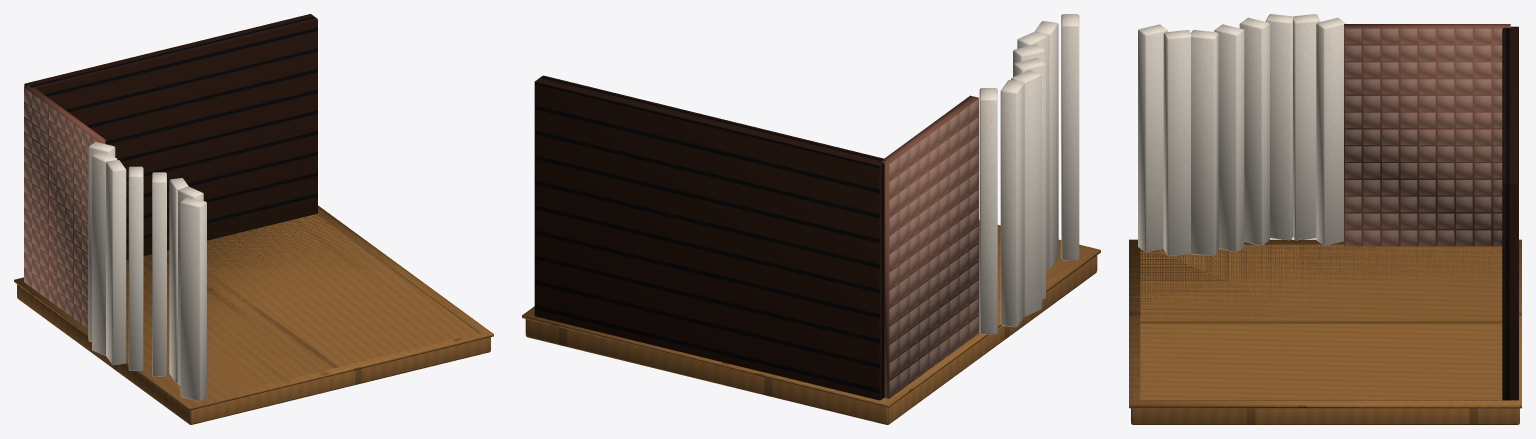
File: shell_modern.glb
The picture shows the model from 3 angles, left to right: view 1: azimuth 30°, elevation 25°; view 2: azimuth 150°, elevation 25°; view 3: azimuth 270°, elevation 25°; orthographic projection. The views are drawn at different scales.
Visible parts, largest first — view 1: modern_v2_wall_wood, modern_v2_base_edge, modern_v2_floor, modern_v2_wall_curved, modern_v2_wall_glassblock; view 2: modern_v2_wall_wood, modern_v2_wall_curved, modern_v2_wall_glassblock, modern_v2_base_edge; view 3: modern_v2_floor, modern_v2_wall_curved, modern_v2_wall_glassblock, modern_v2_base_edge, modern_v2_wall_wood.
Part boxes in pixels (bbox=[...]): modern_v2_wall_wood: bbox=[24, 14, 317, 260]; modern_v2_base_edge: bbox=[14, 205, 493, 424]; modern_v2_floor: bbox=[126, 213, 479, 401]; modern_v2_wall_curved: bbox=[88, 142, 206, 401]; modern_v2_wall_glassblock: bbox=[24, 86, 105, 328]; modern_v2_wall_wood: bbox=[534, 75, 885, 400]; modern_v2_wall_curved: bbox=[979, 14, 1079, 334]; modern_v2_wall_glassblock: bbox=[881, 95, 978, 398]; modern_v2_base_edge: bbox=[522, 220, 1100, 424]; modern_v2_floor: bbox=[1140, 244, 1510, 400]; modern_v2_wall_curved: bbox=[1138, 14, 1345, 256]; modern_v2_wall_glassblock: bbox=[1344, 24, 1510, 246]; modern_v2_base_edge: bbox=[1129, 239, 1521, 424]; modern_v2_wall_wood: bbox=[1502, 26, 1518, 400].
Size of the model in its own units: 4.44 by 2.85 by 4.24.
6 materials, 4 textured.
